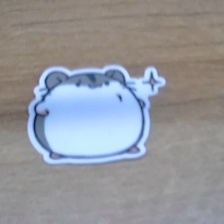mouse: (23, 61, 169, 166)
